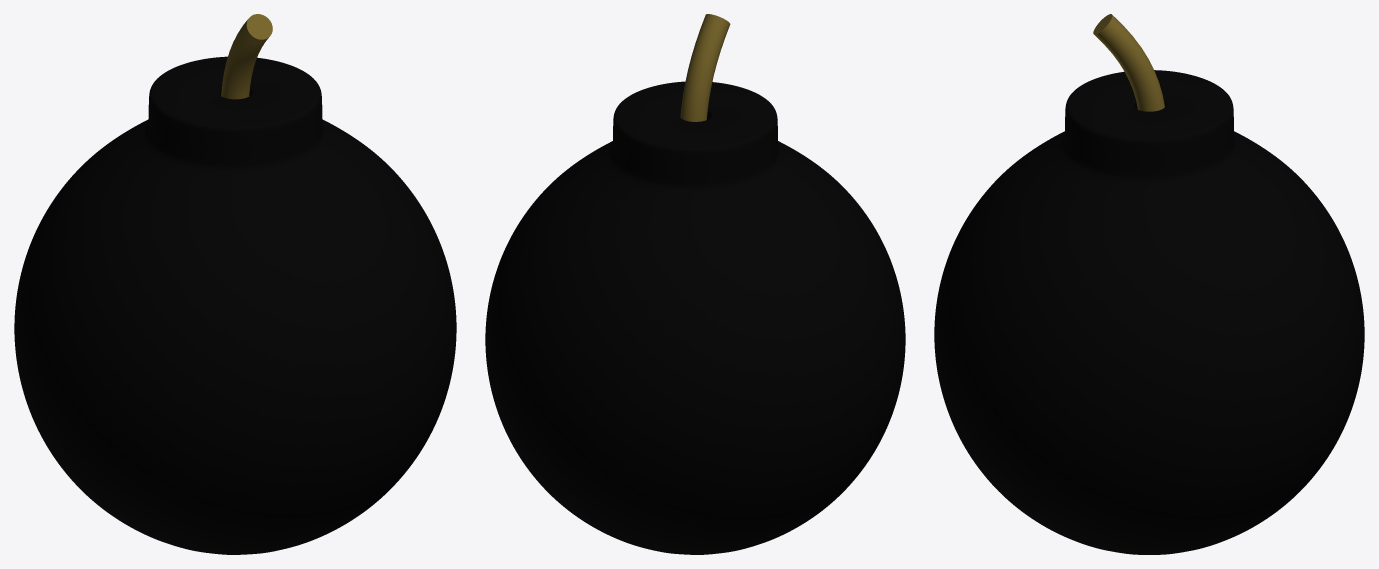
File: Bomb.fbx
The picture shows the model from 3 angles, left to right: view 1: azimuth 30°, elevation 25°; view 2: azimuth 150°, elevation 25°; view 3: azimuth 270°, elevation 25°; orthographic projection. The views are drawn at different scales.
Visible parts, largest first — view 1: Sphere, BezierCurve; view 2: Sphere, BezierCurve; view 3: Sphere, BezierCurve.
Part boxes in pixels (left/top/right/bottom): Sphere: left=14, top=56, right=456, bottom=554; BezierCurve: left=221, top=14, right=272, bottom=99; Sphere: left=485, top=81, right=905, bottom=554; BezierCurve: left=680, top=14, right=730, bottom=121; Sphere: left=934, top=70, right=1364, bottom=554; BezierCurve: left=1093, top=14, right=1164, bottom=111.
Bounding box in the file's own units: 190 × 254 × 190.
